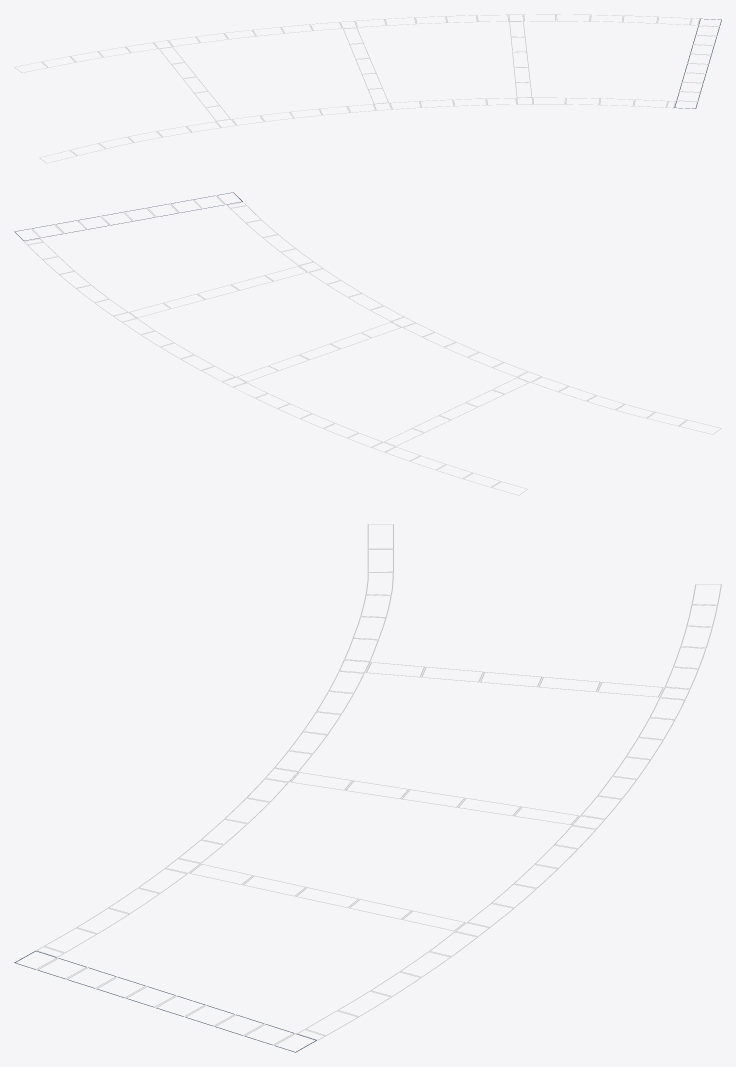
3 views of the same model, one above another, from view 1: azimuth 30°, elevation 25°; view 2: azimuth 150°, elevation 25°; view 3: azimuth 270°, elevation 25° (orthographic). The views are drawn at different scales.
Visible parts, largest first — view 1: SM_H_Building_FutureTech_Aerospace_02_Decal; view 2: SM_H_Building_FutureTech_Aerospace_02_Decal; view 3: SM_H_Building_FutureTech_Aerospace_02_Decal.
Boxes of the visible parts, bbox=[...] form: SM_H_Building_FutureTech_Aerospace_02_Decal: bbox=[14, 14, 721, 163]; SM_H_Building_FutureTech_Aerospace_02_Decal: bbox=[14, 192, 721, 495]; SM_H_Building_FutureTech_Aerospace_02_Decal: bbox=[14, 524, 721, 1052].
Bounding box in the file's own units: 2489 × 4396 × 1.21.
